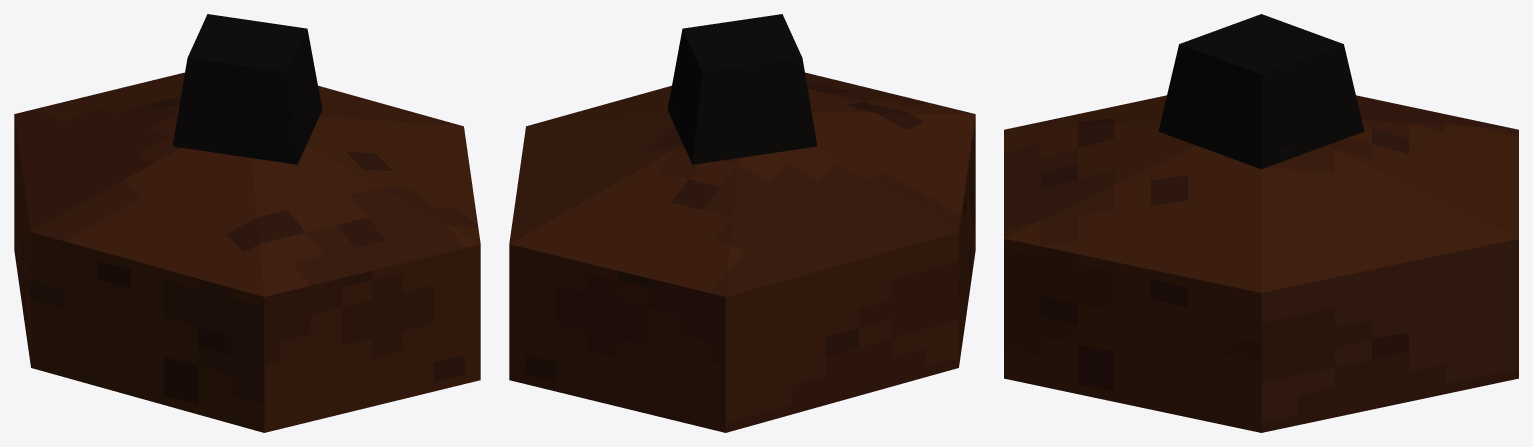
Rendered from agua.glb.
The picture shows the model from 3 angles, left to right: view 1: azimuth 30°, elevation 25°; view 2: azimuth 150°, elevation 25°; view 3: azimuth 270°, elevation 25°; orthographic projection. The views are drawn at different scales.
Parts seen in each view (by area): view 1: bolsa, cuello; view 2: bolsa, cuello; view 3: bolsa, cuello.
Boxes of the visible parts, box(x1,y1,x2,y2) form: bolsa: box(14, 72, 480, 432); cuello: box(172, 14, 322, 164); bolsa: box(509, 72, 975, 432); cuello: box(667, 14, 817, 164); bolsa: box(1004, 95, 1518, 432); cuello: box(1158, 14, 1364, 169).
Size of the model in its own units: 0.2 by 0.15 by 0.2.
1 material, 1 textured.
